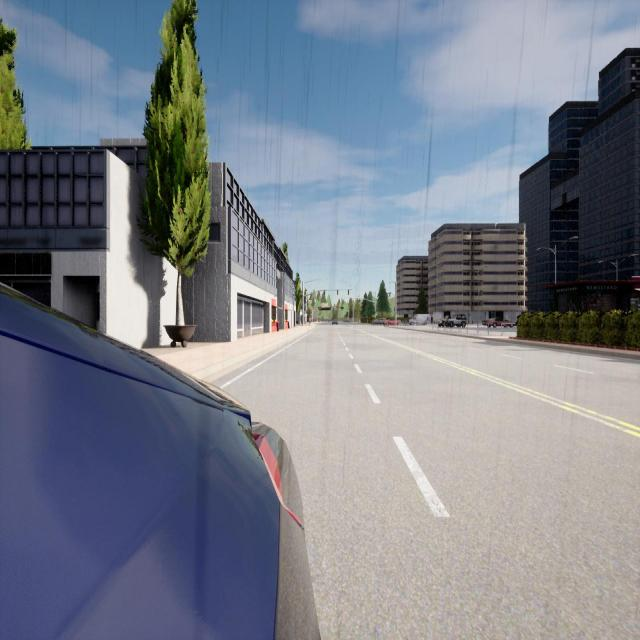Vehicle: (0, 279, 317, 640), (482, 317, 516, 328), (408, 314, 431, 326), (449, 314, 467, 328), (438, 316, 449, 328), (372, 318, 386, 325), (384, 319, 400, 325), (332, 318, 338, 325)
traffic_light: (374, 310, 376, 313), (348, 289, 349, 295), (324, 290, 325, 295), (337, 290, 338, 295), (394, 307, 395, 311), (359, 298, 360, 301), (390, 293, 390, 297), (342, 298, 342, 302), (350, 298, 350, 302)
